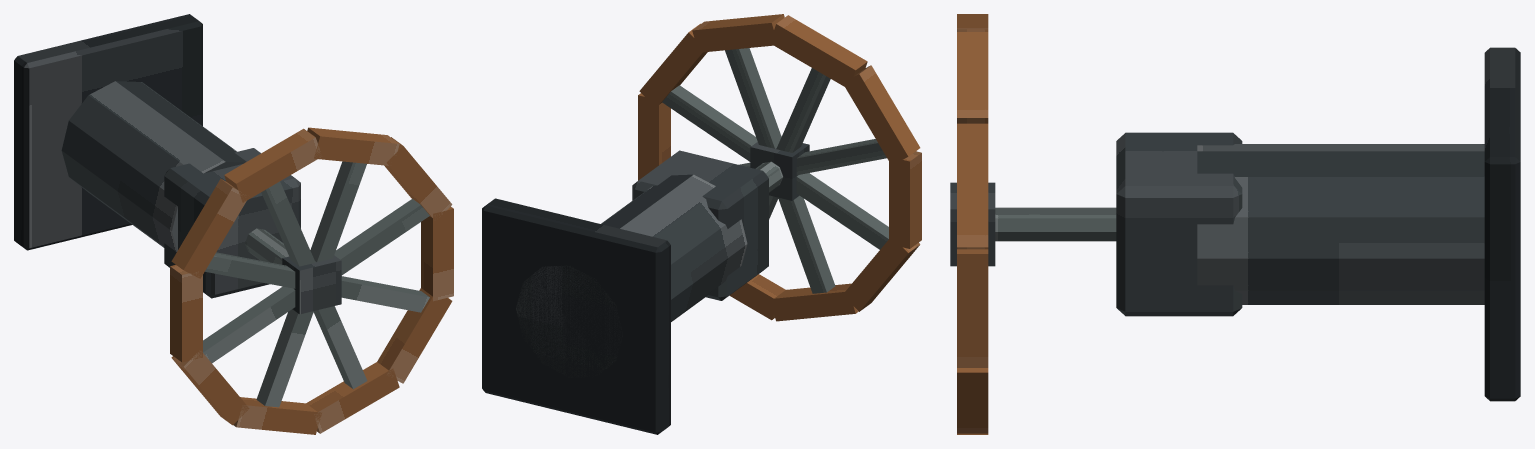
Rendered from sewer_valve_wheel.glb.
3 renders of one model, left to right at view 1: azimuth 30°, elevation 25°; view 2: azimuth 150°, elevation 25°; view 3: azimuth 270°, elevation 25°, orthographic. The views are drawn at different scales.
Visible parts, largest first — view 1: Flange, Stub, Bonnet, Spoke0, Spoke1, Spoke2, Spoke3, Rim4, Rim3, Rim5, Rim9, Rim8 (+7 smaller); view 2: Flange, Stub, Bonnet, Spoke0, Spoke1, Rim4, Rim3, Rim5, Rim2, Rim0, Rim7, Rim6 (+6 smaller); view 3: Stub, Bonnet, Flange, Stem, Rim1, Rim0, Rim2, Rim9, Hub, Rim3.
Part boxes in pixels (x1,y1,x2,y2): Flange: [14, 14, 202, 250]; Stub: [61, 81, 246, 251]; Bonnet: [164, 148, 300, 298]; Spoke0: [203, 199, 429, 363]; Spoke1: [256, 161, 366, 407]; Spoke2: [261, 181, 367, 389]; Spoke3: [205, 252, 429, 312]; Rim4: [171, 178, 246, 278]; Rim3: [224, 128, 321, 202]; Rim5: [170, 265, 202, 362]; Rim9: [377, 288, 452, 383]; Rim8: [306, 362, 399, 433]; Flange: [482, 198, 670, 434]; Stub: [516, 174, 747, 377]; Bonnet: [632, 150, 768, 300]; Spoke0: [662, 85, 888, 249]; Spoke1: [725, 48, 835, 293]; Rim4: [842, 65, 920, 165]; Rim3: [770, 15, 867, 86]; Rim5: [889, 151, 921, 248]; Rim2: [692, 14, 784, 52]; Rim0: [638, 93, 670, 180]; Rim7: [770, 283, 858, 321]; Rim6: [843, 237, 920, 311]; Stub: [1197, 144, 1484, 304]; Bonnet: [1116, 132, 1242, 316]; Flange: [1484, 47, 1520, 401]; Stem: [995, 207, 1116, 241]; Rim1: [957, 123, 988, 249]; Rim0: [957, 249, 988, 367]; Rim2: [957, 32, 988, 123]; Rim9: [957, 368, 988, 433]; Hub: [950, 182, 995, 266]; Rim3: [957, 14, 988, 31].
Bounding box in the file's own units: 0.455 × 0.476 × 0.635.
2 materials, 2 textured.
